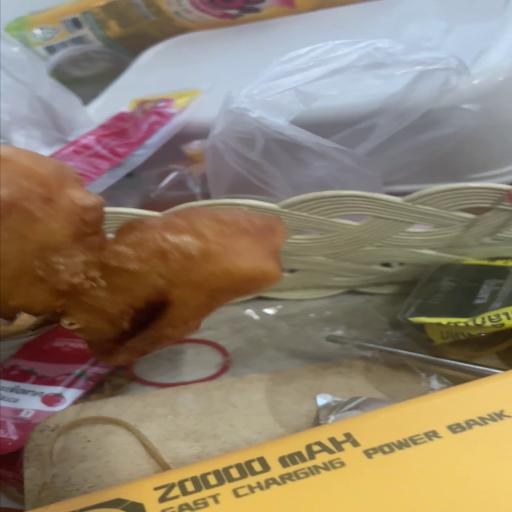street_burnt_defect: (0, 152, 288, 362)
